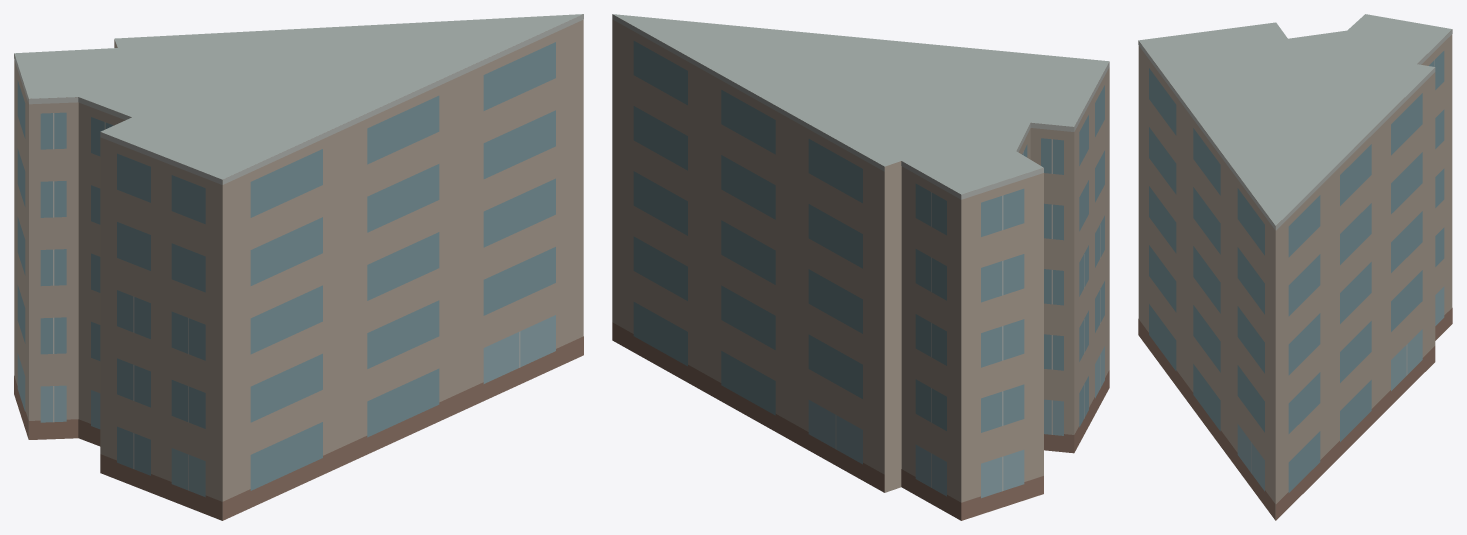
Rendered from survey-upis-32519124.glb.
The picture shows the model from 3 angles, left to right: view 1: azimuth 30°, elevation 25°; view 2: azimuth 150°, elevation 25°; view 3: azimuth 270°, elevation 25°; orthographic projection. The views are drawn at different scales.
Visible parts, largest first — view 1: survey-upis-32519124.tmp; view 2: survey-upis-32519124.tmp; view 3: survey-upis-32519124.tmp.
Boxes of the visible parts, left/top/right/bottom form: survey-upis-32519124.tmp: left=14, top=14, right=583, bottom=520; survey-upis-32519124.tmp: left=612, top=14, right=1109, bottom=520; survey-upis-32519124.tmp: left=1138, top=14, right=1452, bottom=520.
Size of the model in its own units: 23.62 by 15.3 by 14.78.
